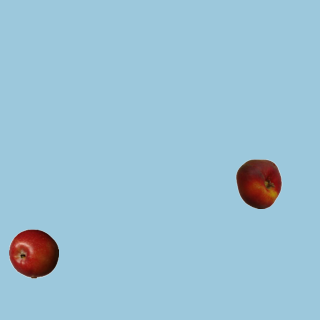Apple Braeburn: (8, 228, 58, 278)
Nectarine Flat: (233, 158, 283, 208)
